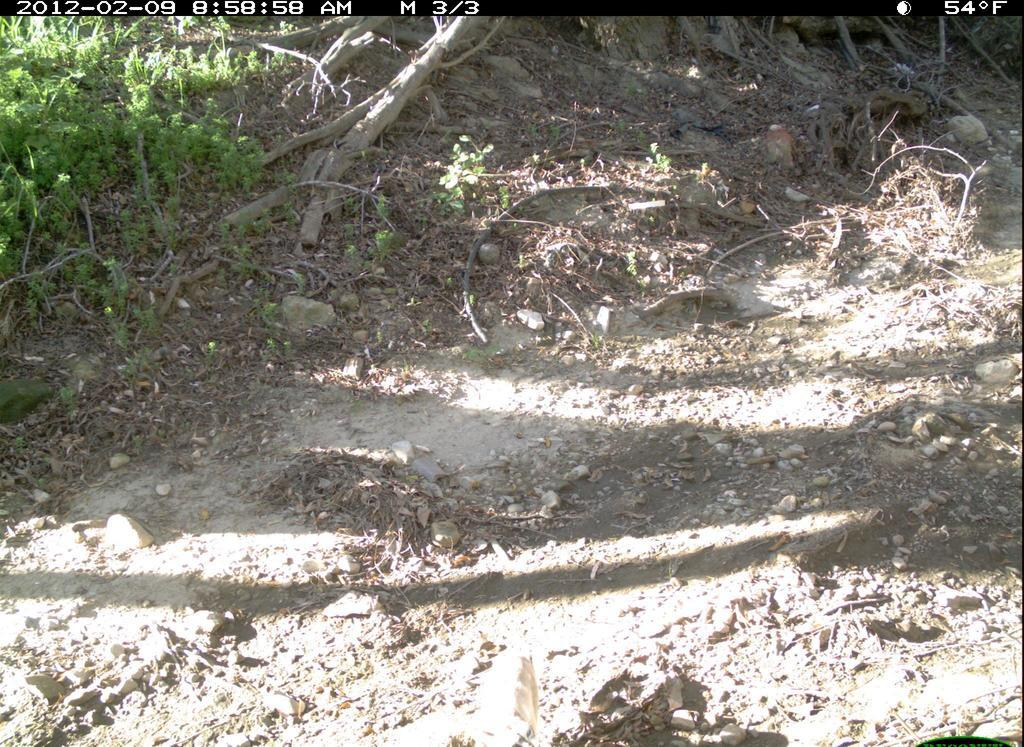cat: (463, 643, 555, 740)
